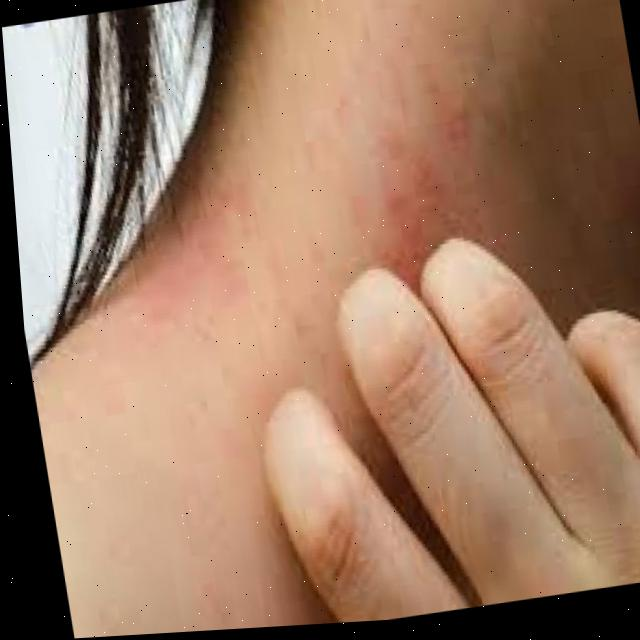Eczema: (336, 74, 478, 261), (132, 188, 297, 311)
